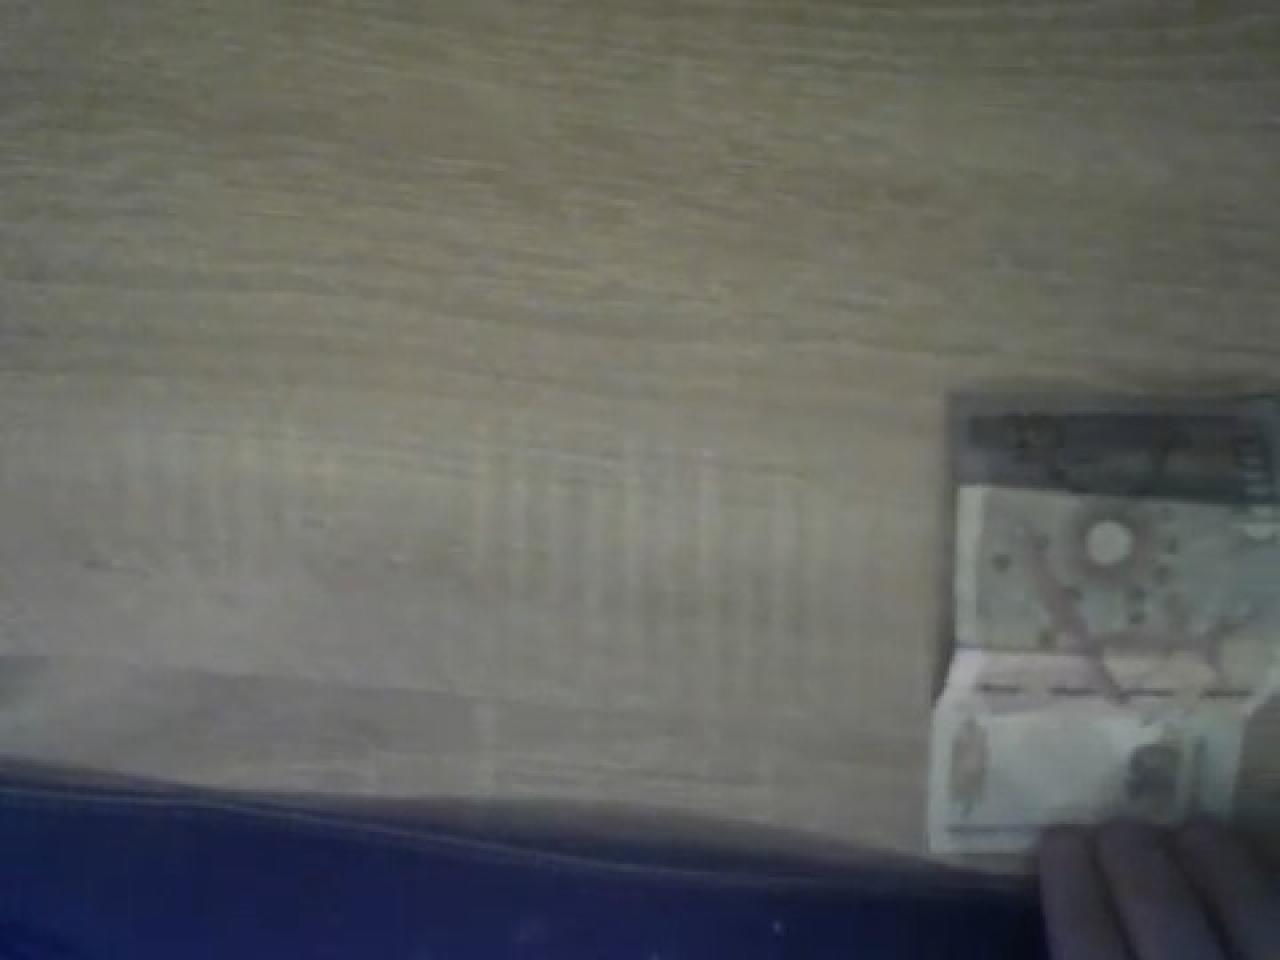10leva: (925, 395, 1280, 867)
